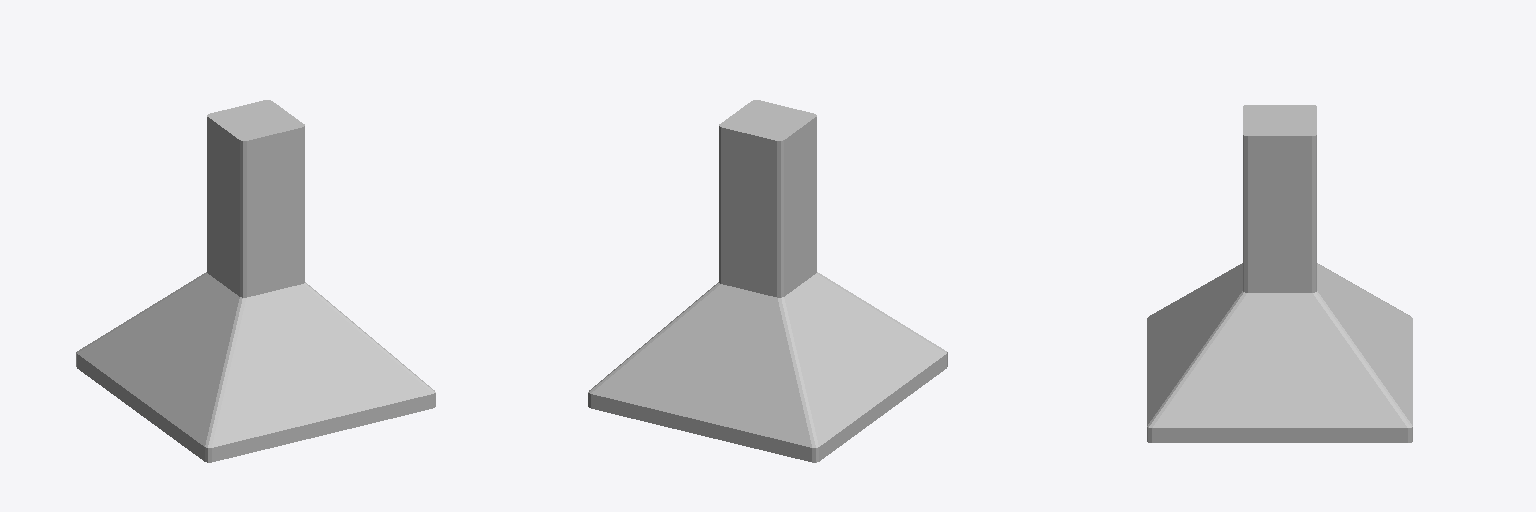
File: Vent.obj
3 renders of one model, left to right at view 1: azimuth 30°, elevation 25°; view 2: azimuth 150°, elevation 25°; view 3: azimuth 270°, elevation 25°, orthographic.
Visible parts, largest first — view 1: Vent; view 2: Vent; view 3: Vent.
Part boxes in pixels (bbox=[...]): Vent: bbox=[76, 100, 435, 462]; Vent: bbox=[588, 100, 947, 462]; Vent: bbox=[1147, 105, 1412, 442].
Size of the model in its own units: 3.88 by 4.36 by 3.88.